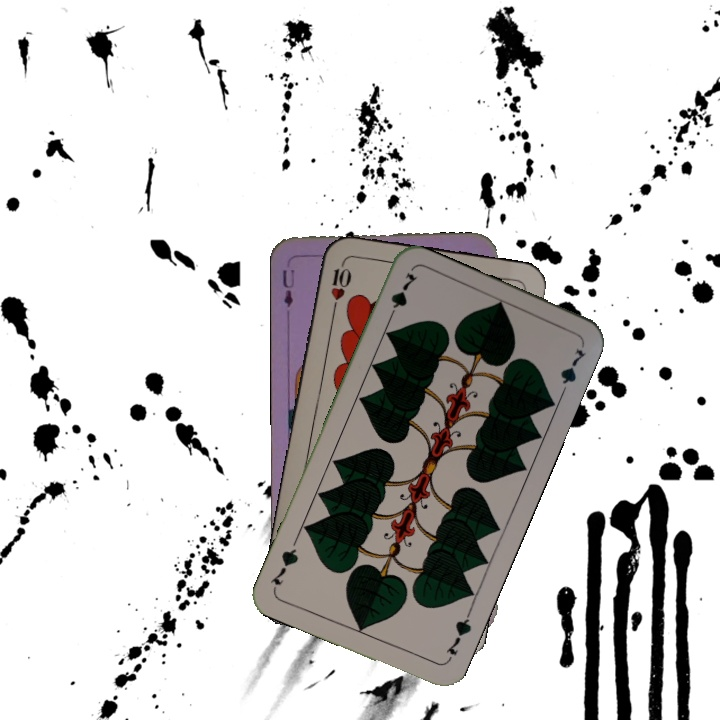EU: (278, 266, 297, 310)
G7: (383, 268, 420, 324), (441, 608, 474, 665)
H10: (326, 256, 353, 315)
